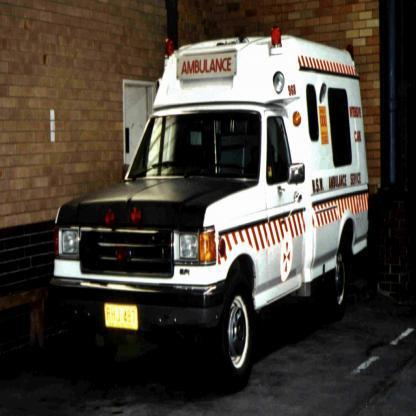Ambulance - v1 Ambulance last generate: (47, 23, 368, 386)
